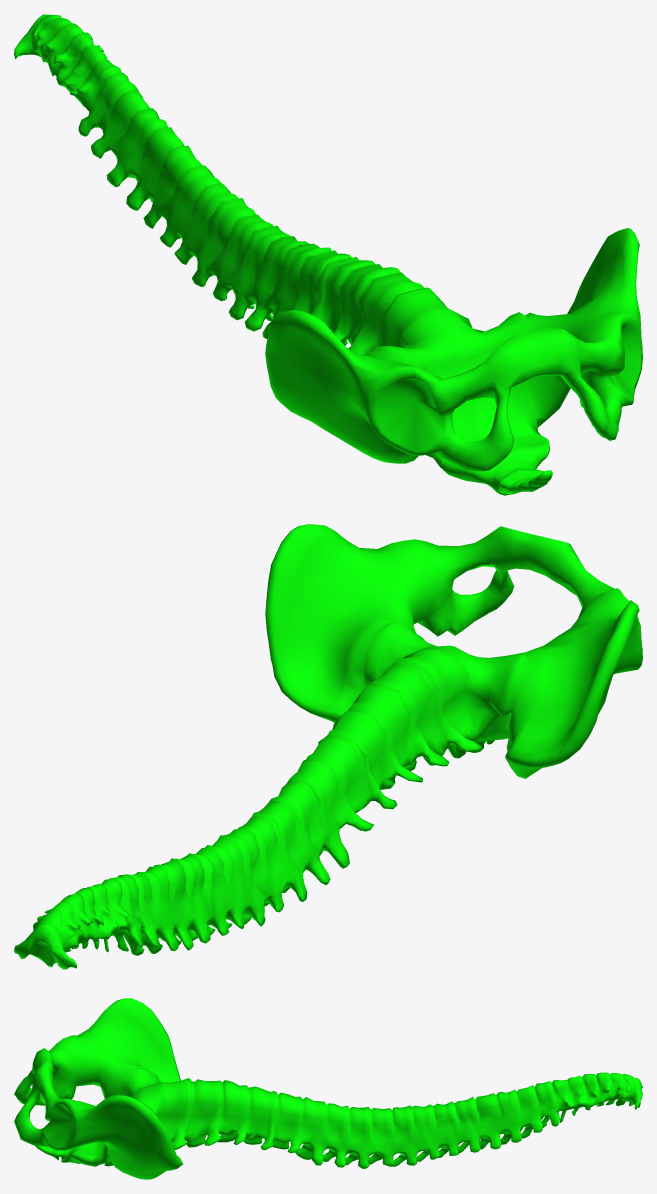
File: SM_VertebralC_Pelvis.FBX
3 renders of one model, top to bottom at view 1: azimuth 30°, elevation 25°; view 2: azimuth 150°, elevation 25°; view 3: azimuth 270°, elevation 25°, orthographic. The views are drawn at different scales.
Visible parts, largest first — view 1: VertebralC_Pelvis; view 2: VertebralC_Pelvis; view 3: VertebralC_Pelvis.
Part boxes in pixels (x1=…): VertebralC_Pelvis: x1=14, y1=14, x2=642, y2=495; VertebralC_Pelvis: x1=14, y1=524, x2=642, y2=969; VertebralC_Pelvis: x1=14, y1=998, x2=642, y2=1179.
Bounding box in the file's own units: 29.42 × 15.78 × 75.34.
